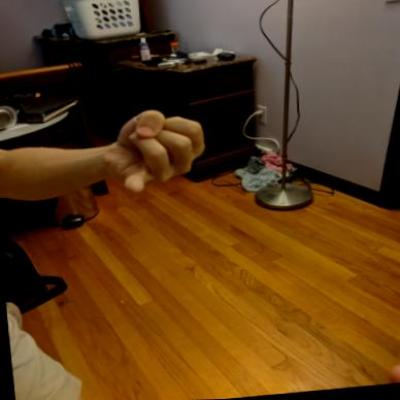hand: (94, 103, 214, 200)
